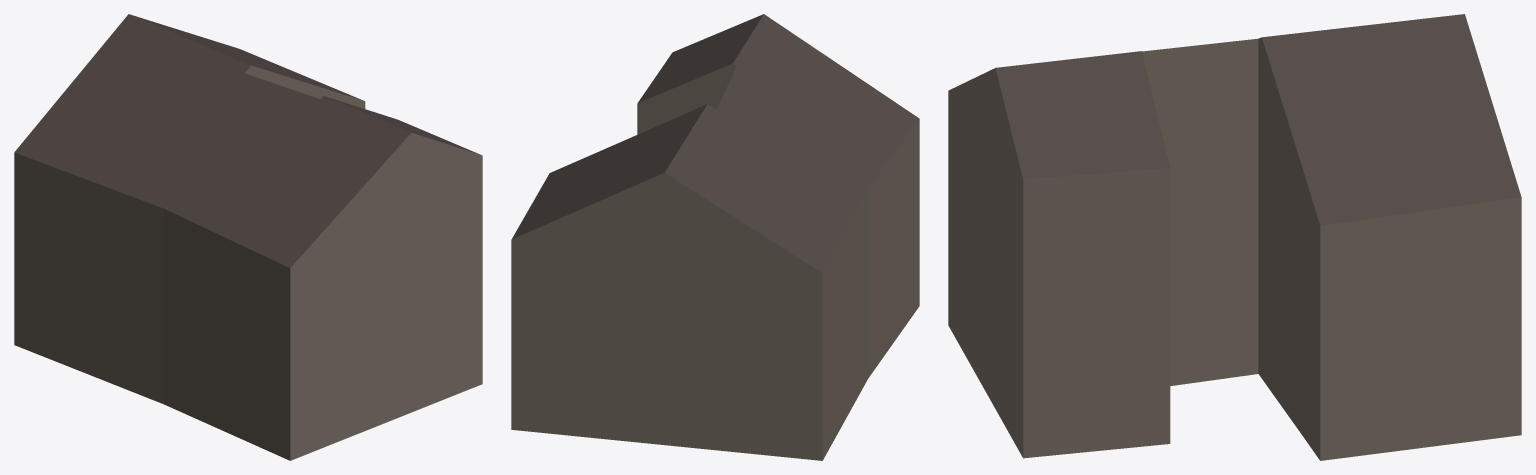
3 views of the same model, side by side, from view 1: azimuth 30°, elevation 25°; view 2: azimuth 150°, elevation 25°; view 3: azimuth 270°, elevation 25° (orthographic). The views are drawn at different scales.
Visible parts, largest first — view 1: HP-w1198843258; view 2: HP-w1198843258; view 3: HP-w1198843258.
Boxes of the visible parts, <box> form: HP-w1198843258: <box>14,14,482,460</box>; HP-w1198843258: <box>511,14,919,460</box>; HP-w1198843258: <box>948,14,1521,460</box>.
Size of the model in its own units: 10.29 by 8.72 by 13.26.
